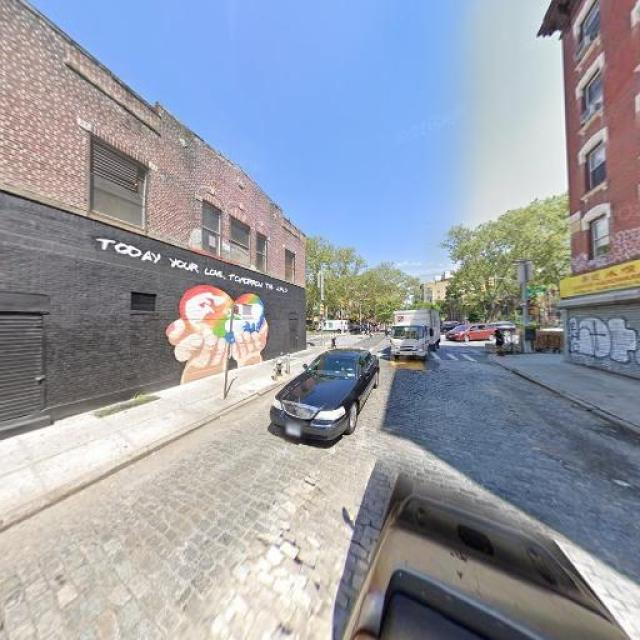Building: (1, 1, 305, 433), (572, 1, 640, 377)
